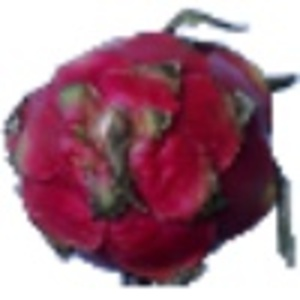pitaia: (1, 7, 300, 289)
